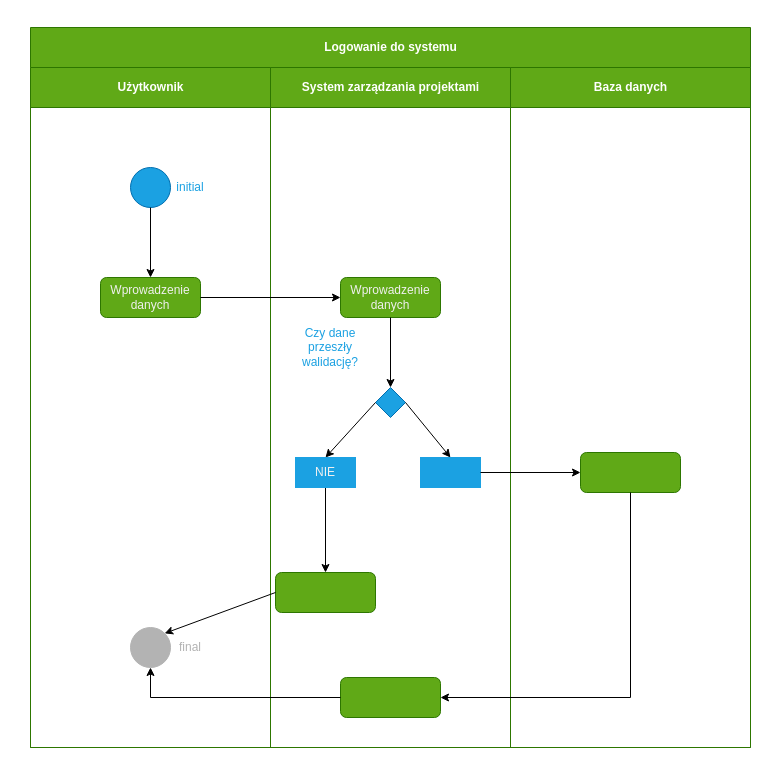
This 780x774 diagram has some shape labels left out. The shapes that lost their labels are listed below. From the top down, each one's centre as x and y in pixels, then its label:
At (450,472): "TAK".
At (630,472): "Pobierz rekord".
At (325,592): "Komunikat".
At (390,697): "Wyświetl zawartość".
